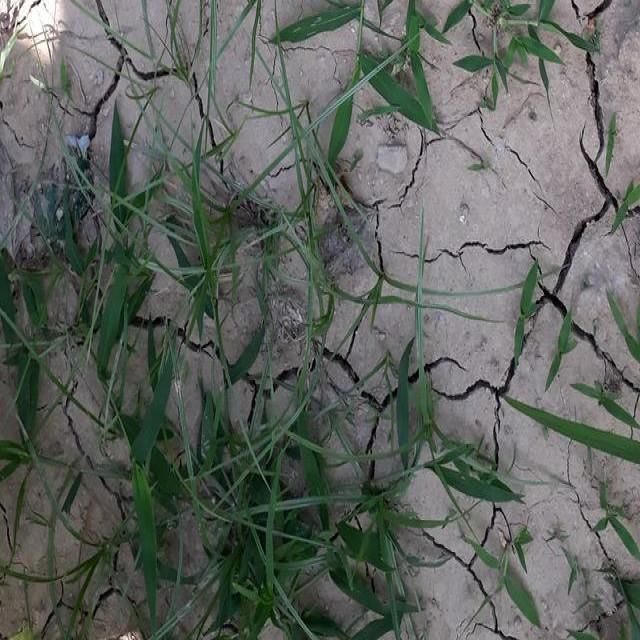weed: (16, 115, 419, 640)
